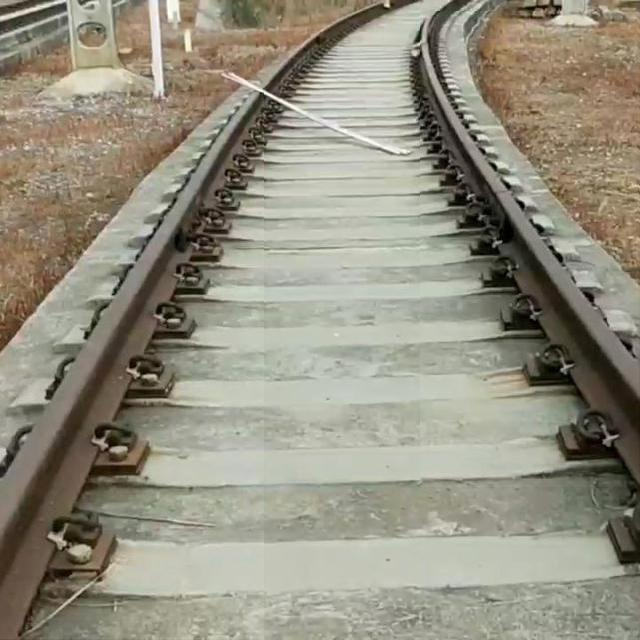rail: (1, 94, 265, 640), (421, 13, 640, 488), (259, 1, 389, 91)
